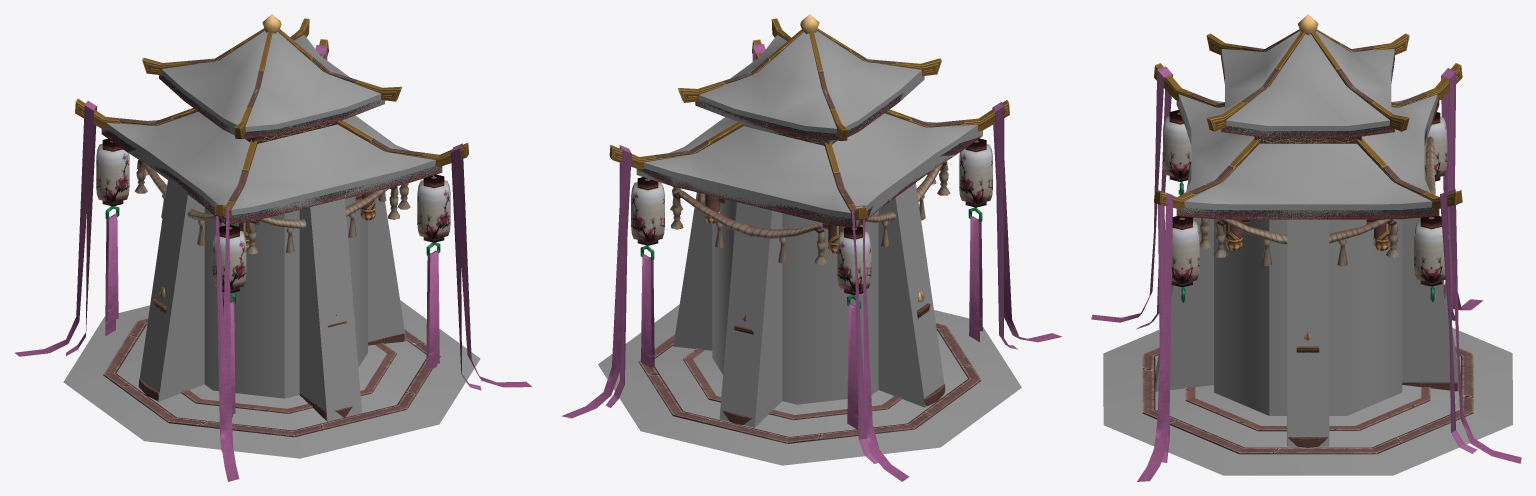
The model's file is Scene_Build_HuanYinFang_XiangLu_1.FBX.
3 views of the same model, side by side, from view 1: azimuth 30°, elevation 25°; view 2: azimuth 150°, elevation 25°; view 3: azimuth 270°, elevation 25° (orthographic). The views are drawn at different scales.
Visible parts, largest first — view 1: Scene_Build_HuanYinFang_XiangLu_1_Xzm, Scene_Build_HuanYinFang_XiangLu_1d, Scene_Build_HuanYinFang_XiangLu_1b, Scene_Build_HuanYinFang_XiangLu_1a, Scene_Build_HuanYinFang_XiangLu_1c; view 2: Scene_Build_HuanYinFang_XiangLu_1_Xzm, Scene_Build_HuanYinFang_XiangLu_1d, Scene_Build_HuanYinFang_XiangLu_1b, Scene_Build_HuanYinFang_XiangLu_1a, Scene_Build_HuanYinFang_XiangLu_1c; view 3: Scene_Build_HuanYinFang_XiangLu_1_Xzm, Scene_Build_HuanYinFang_XiangLu_1d, Scene_Build_HuanYinFang_XiangLu_1b, Scene_Build_HuanYinFang_XiangLu_1a, Scene_Build_HuanYinFang_XiangLu_1c.
Part boxes in pixels (<box>): Scene_Build_HuanYinFang_XiangLu_1_Xzm: <box>63,31,480,458</box>; Scene_Build_HuanYinFang_XiangLu_1d: <box>14,45,531,481</box>; Scene_Build_HuanYinFang_XiangLu_1b: <box>101,14,442,437</box>; Scene_Build_HuanYinFang_XiangLu_1a: <box>75,18,468,306</box>; Scene_Build_HuanYinFang_XiangLu_1c: <box>134,160,433,254</box>; Scene_Build_HuanYinFang_XiangLu_1_Xzm: <box>598,31,1021,465</box>; Scene_Build_HuanYinFang_XiangLu_1d: <box>561,44,1062,481</box>; Scene_Build_HuanYinFang_XiangLu_1b: <box>636,14,982,443</box>; Scene_Build_HuanYinFang_XiangLu_1a: <box>609,18,1009,308</box>; Scene_Build_HuanYinFang_XiangLu_1c: <box>647,141,975,264</box>; Scene_Build_HuanYinFang_XiangLu_1_Xzm: <box>1103,30,1512,475</box>; Scene_Build_HuanYinFang_XiangLu_1d: <box>1091,66,1521,481</box>; Scene_Build_HuanYinFang_XiangLu_1b: <box>1142,14,1473,454</box>; Scene_Build_HuanYinFang_XiangLu_1a: <box>1154,29,1462,303</box>; Scene_Build_HuanYinFang_XiangLu_1c: <box>1199,136,1436,266</box>.
Bounding box in the file's own units: 1590 × 1686 × 1589.
